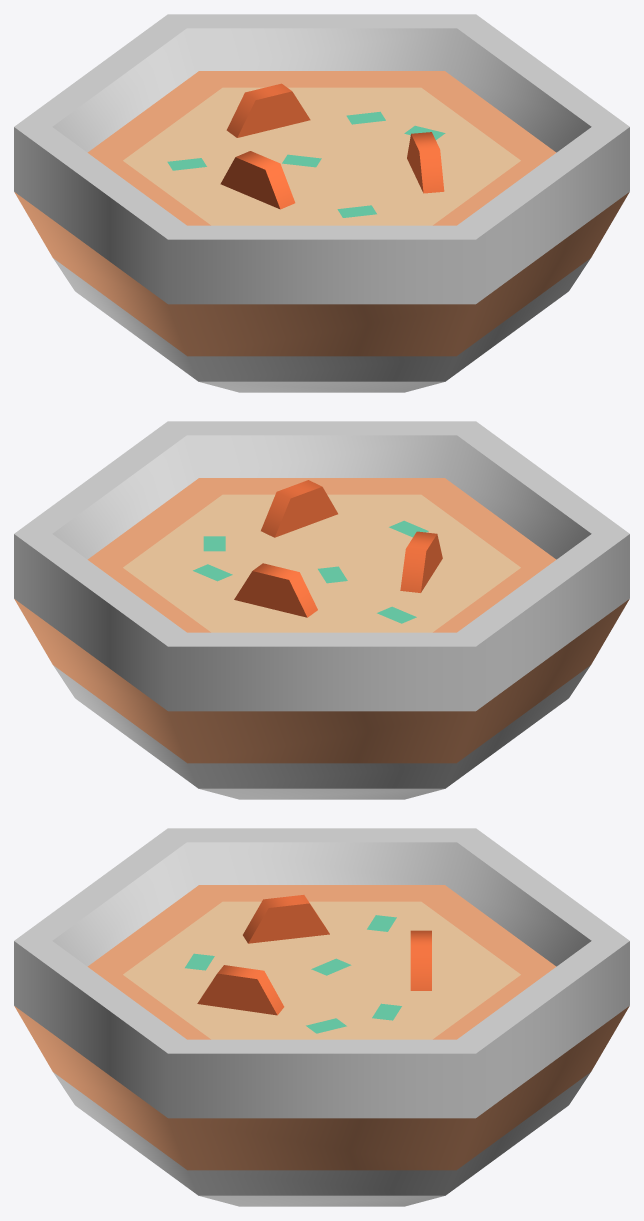
The model's file is bowlSoup.obj.
3 renders of one model, top to bottom at view 1: azimuth 30°, elevation 25°; view 2: azimuth 150°, elevation 25°; view 3: azimuth 270°, elevation 25°, orthographic.
Parts seen in each view (by area): view 1: bowlSoup; view 2: bowlSoup; view 3: bowlSoup.
Boxes of the visible parts, x1=… form: bowlSoup: x1=14, y1=14, x2=629, y2=392; bowlSoup: x1=14, y1=421, x2=629, y2=799; bowlSoup: x1=14, y1=828, x2=629, y2=1206.
Size of the model in its own units: 0.5022 by 0.2138 by 0.5798.
